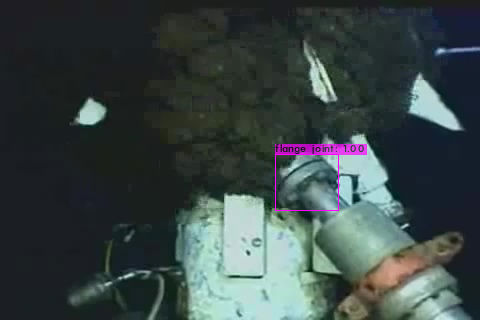flange joint: (275, 159, 341, 211)
